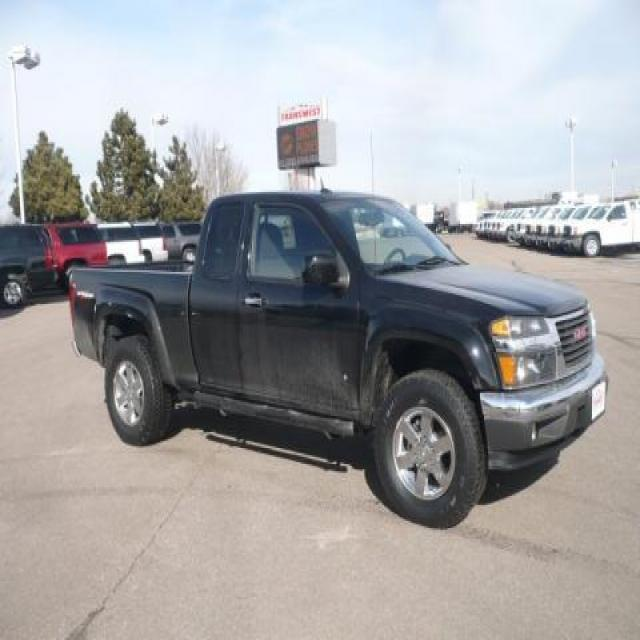car: (66, 179, 609, 529)
